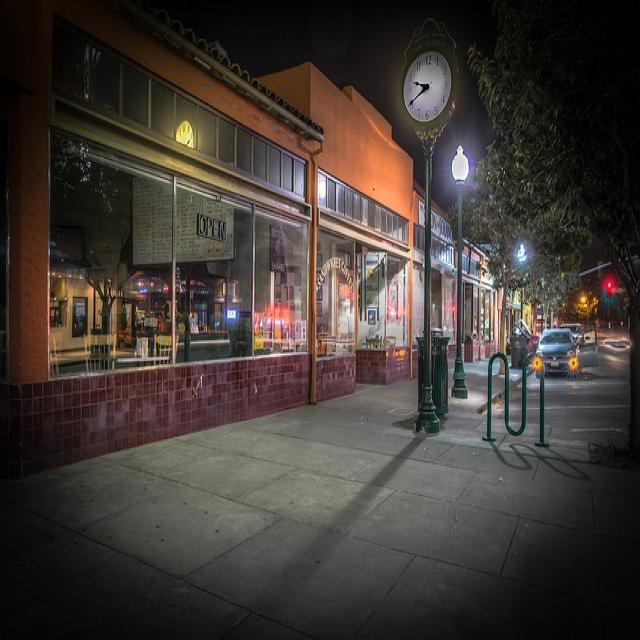car: (534, 324, 572, 376)
pole: (414, 147, 441, 435), (451, 182, 469, 398)
